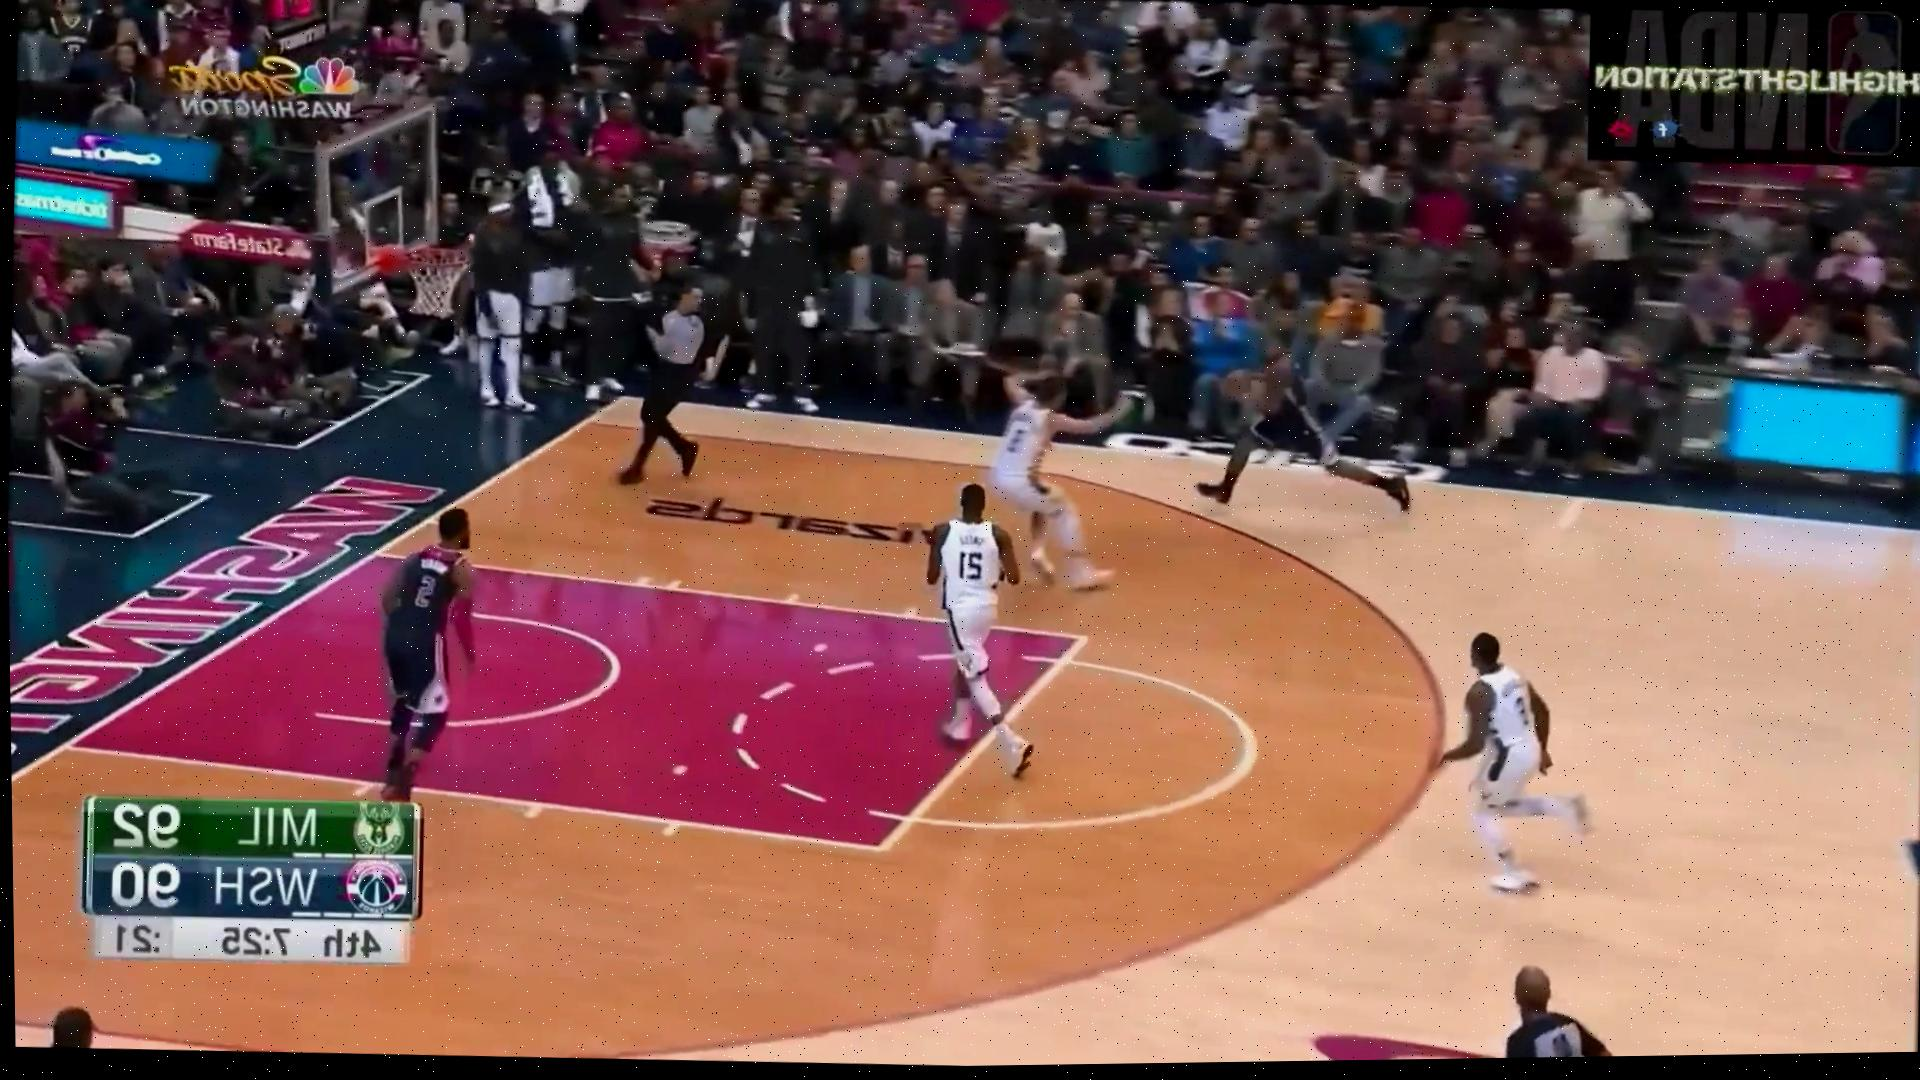no_foul: (977, 301, 1391, 584)
